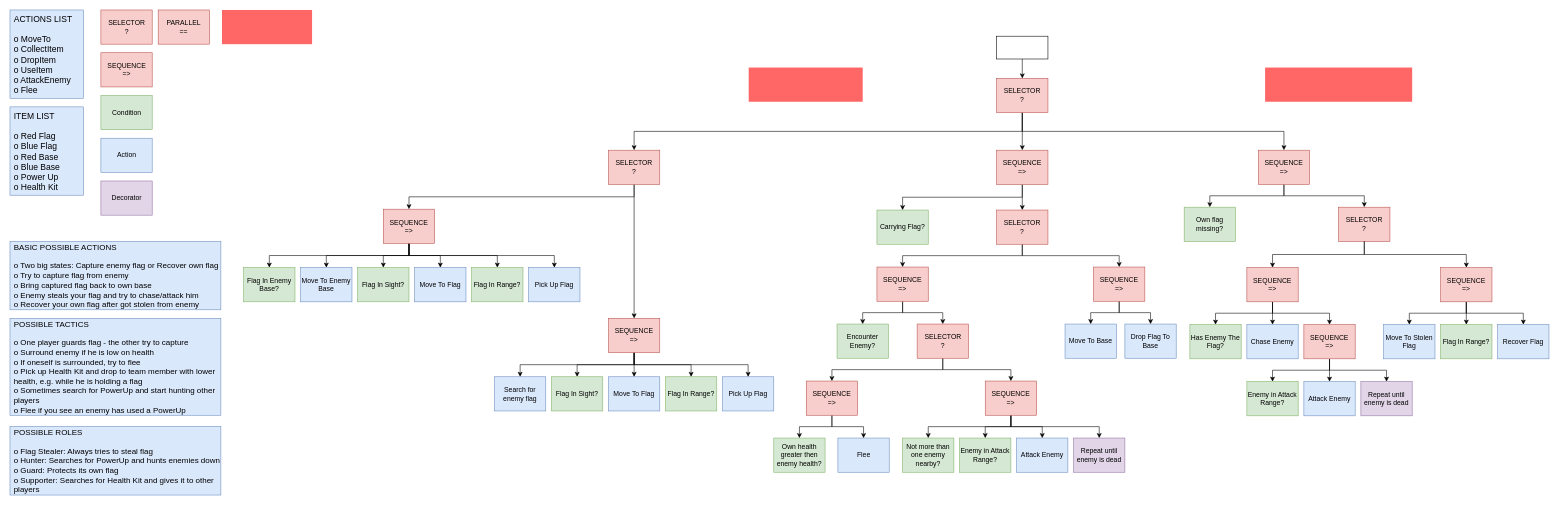
Image size: 1559x505. Some labels were removed from this diagram. Each missing label, with the box of its shape:
CAPTURE FLAG: (748, 67, 862, 101)
RECOVERING FLAG: (1265, 67, 1412, 101)
Root: (996, 36, 1048, 59)
TEXT NOTE: (222, 10, 312, 44)
